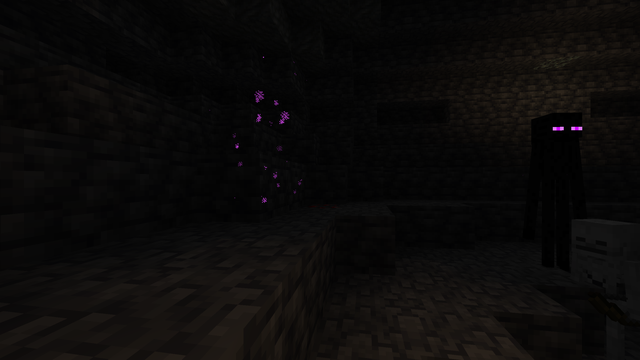endermens: (527, 106, 587, 271)
squelettes: (565, 218, 638, 357)
